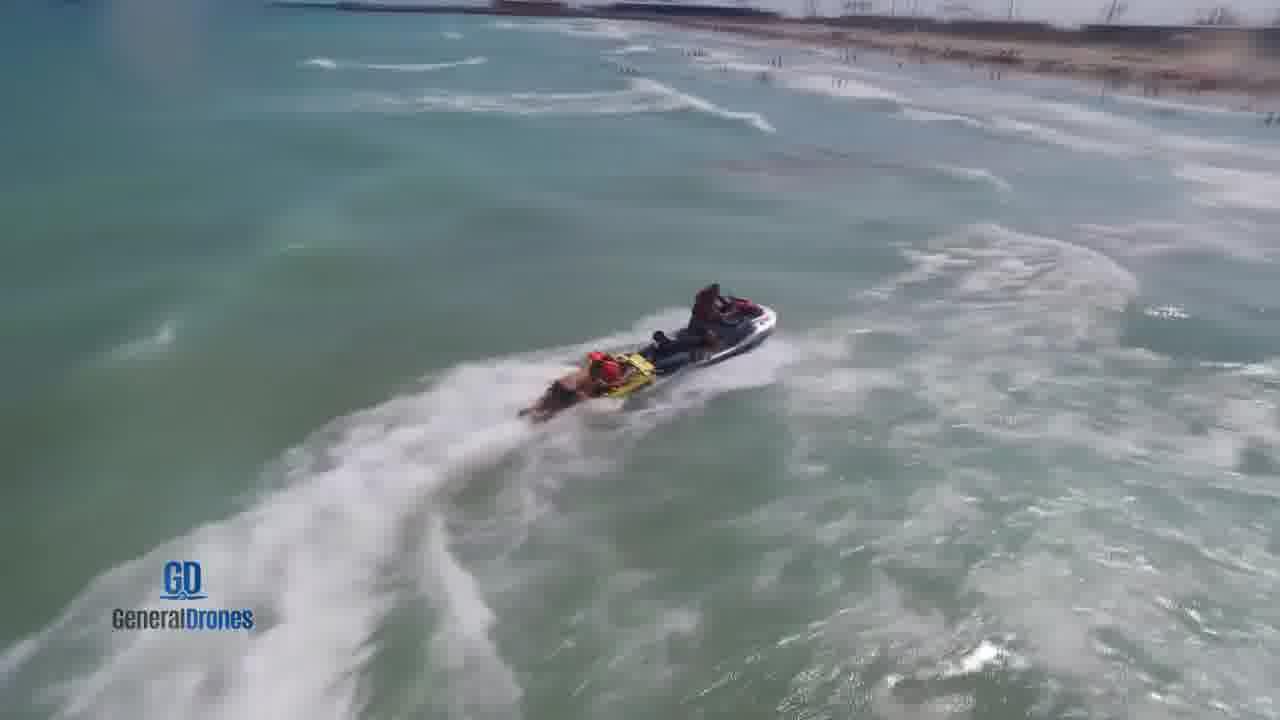swimmer: (533, 375, 583, 414)
